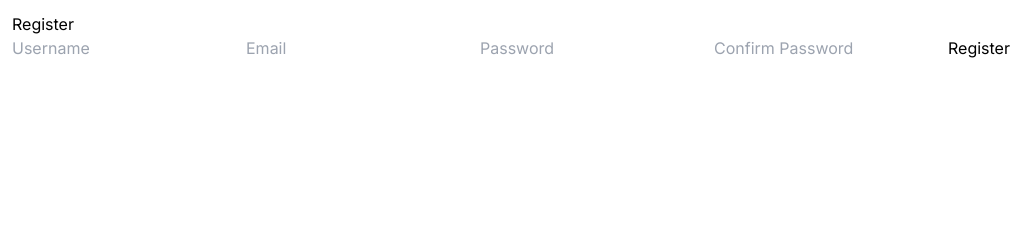
Test: Register › Send form without filling in the fields
Click the button with class "register". click: click(979, 48)
box: [948, 36, 1010, 60]
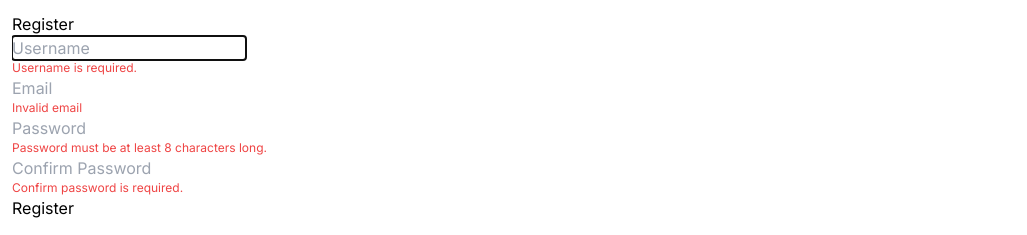
Now the text "Username is required." is shown, box [12, 60, 137, 75]
Now the text "Invalid email" is shown, box [12, 100, 82, 115]
Now the text "Password must be at least 8 characters long." is shown, box [12, 140, 267, 155]
